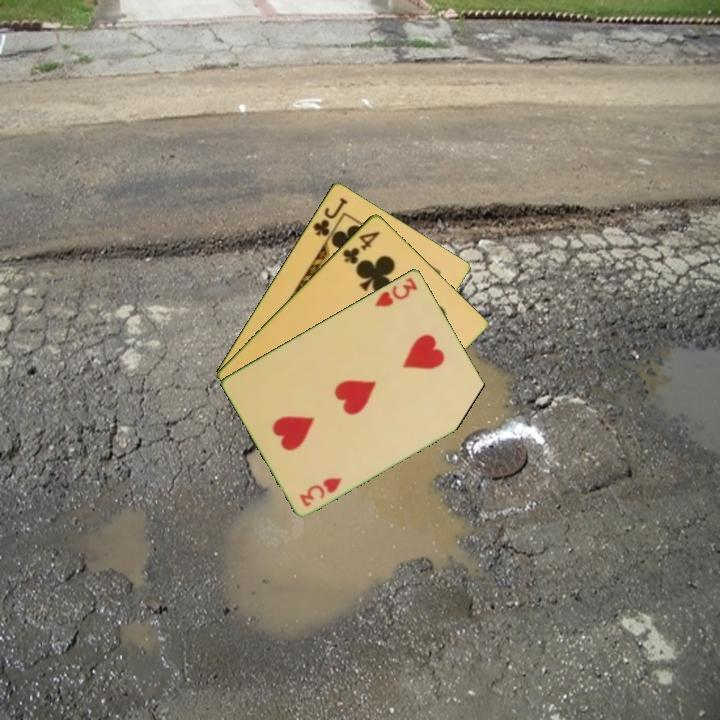3h: (371, 273, 421, 309), (296, 473, 345, 509)
4c: (339, 227, 383, 267)
Jc: (309, 193, 351, 239)
